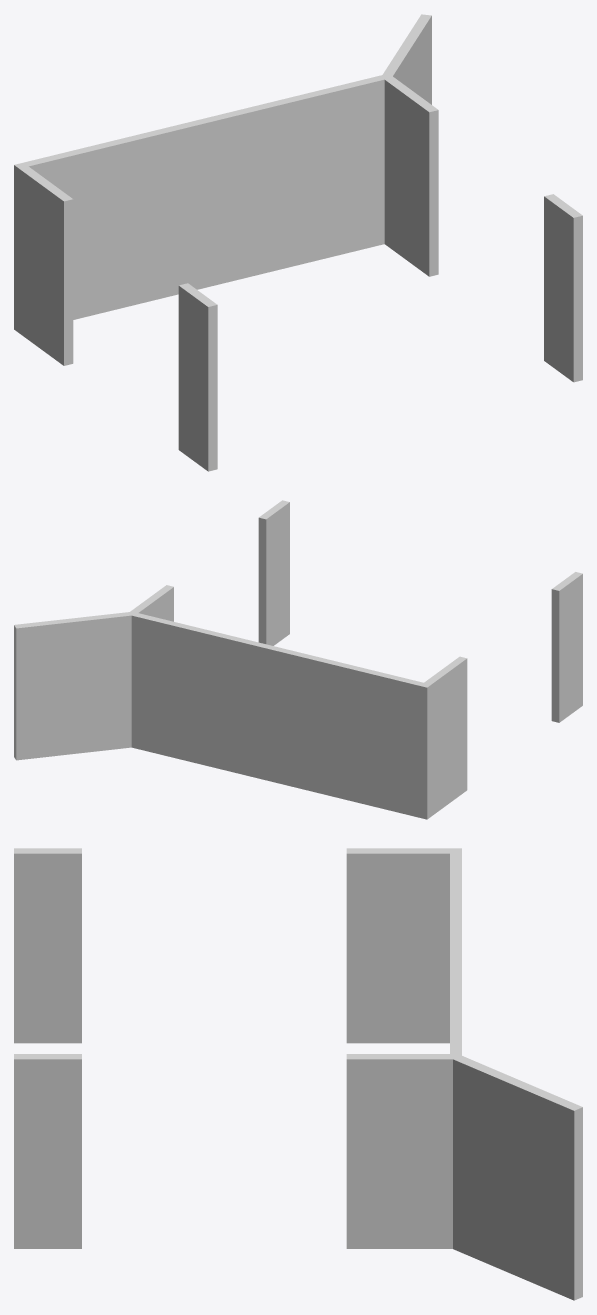
Rendered from Hea_Player_Wall.fbx.
3 views of the same model, one above another, from view 1: azimuth 30°, elevation 25°; view 2: azimuth 150°, elevation 25°; view 3: azimuth 270°, elevation 25° (orthographic). The views are drawn at different scales.
Visible parts, largest first — view 1: InnerWall; view 2: InnerWall; view 3: InnerWall.
Part boxes in pixels (x1,y1,x2,y2): InnerWall: (14,14,582,471); InnerWall: (14,500,582,819); InnerWall: (14,848,582,1300).
Size of the model in its own units: 677 by 228 by 620.
